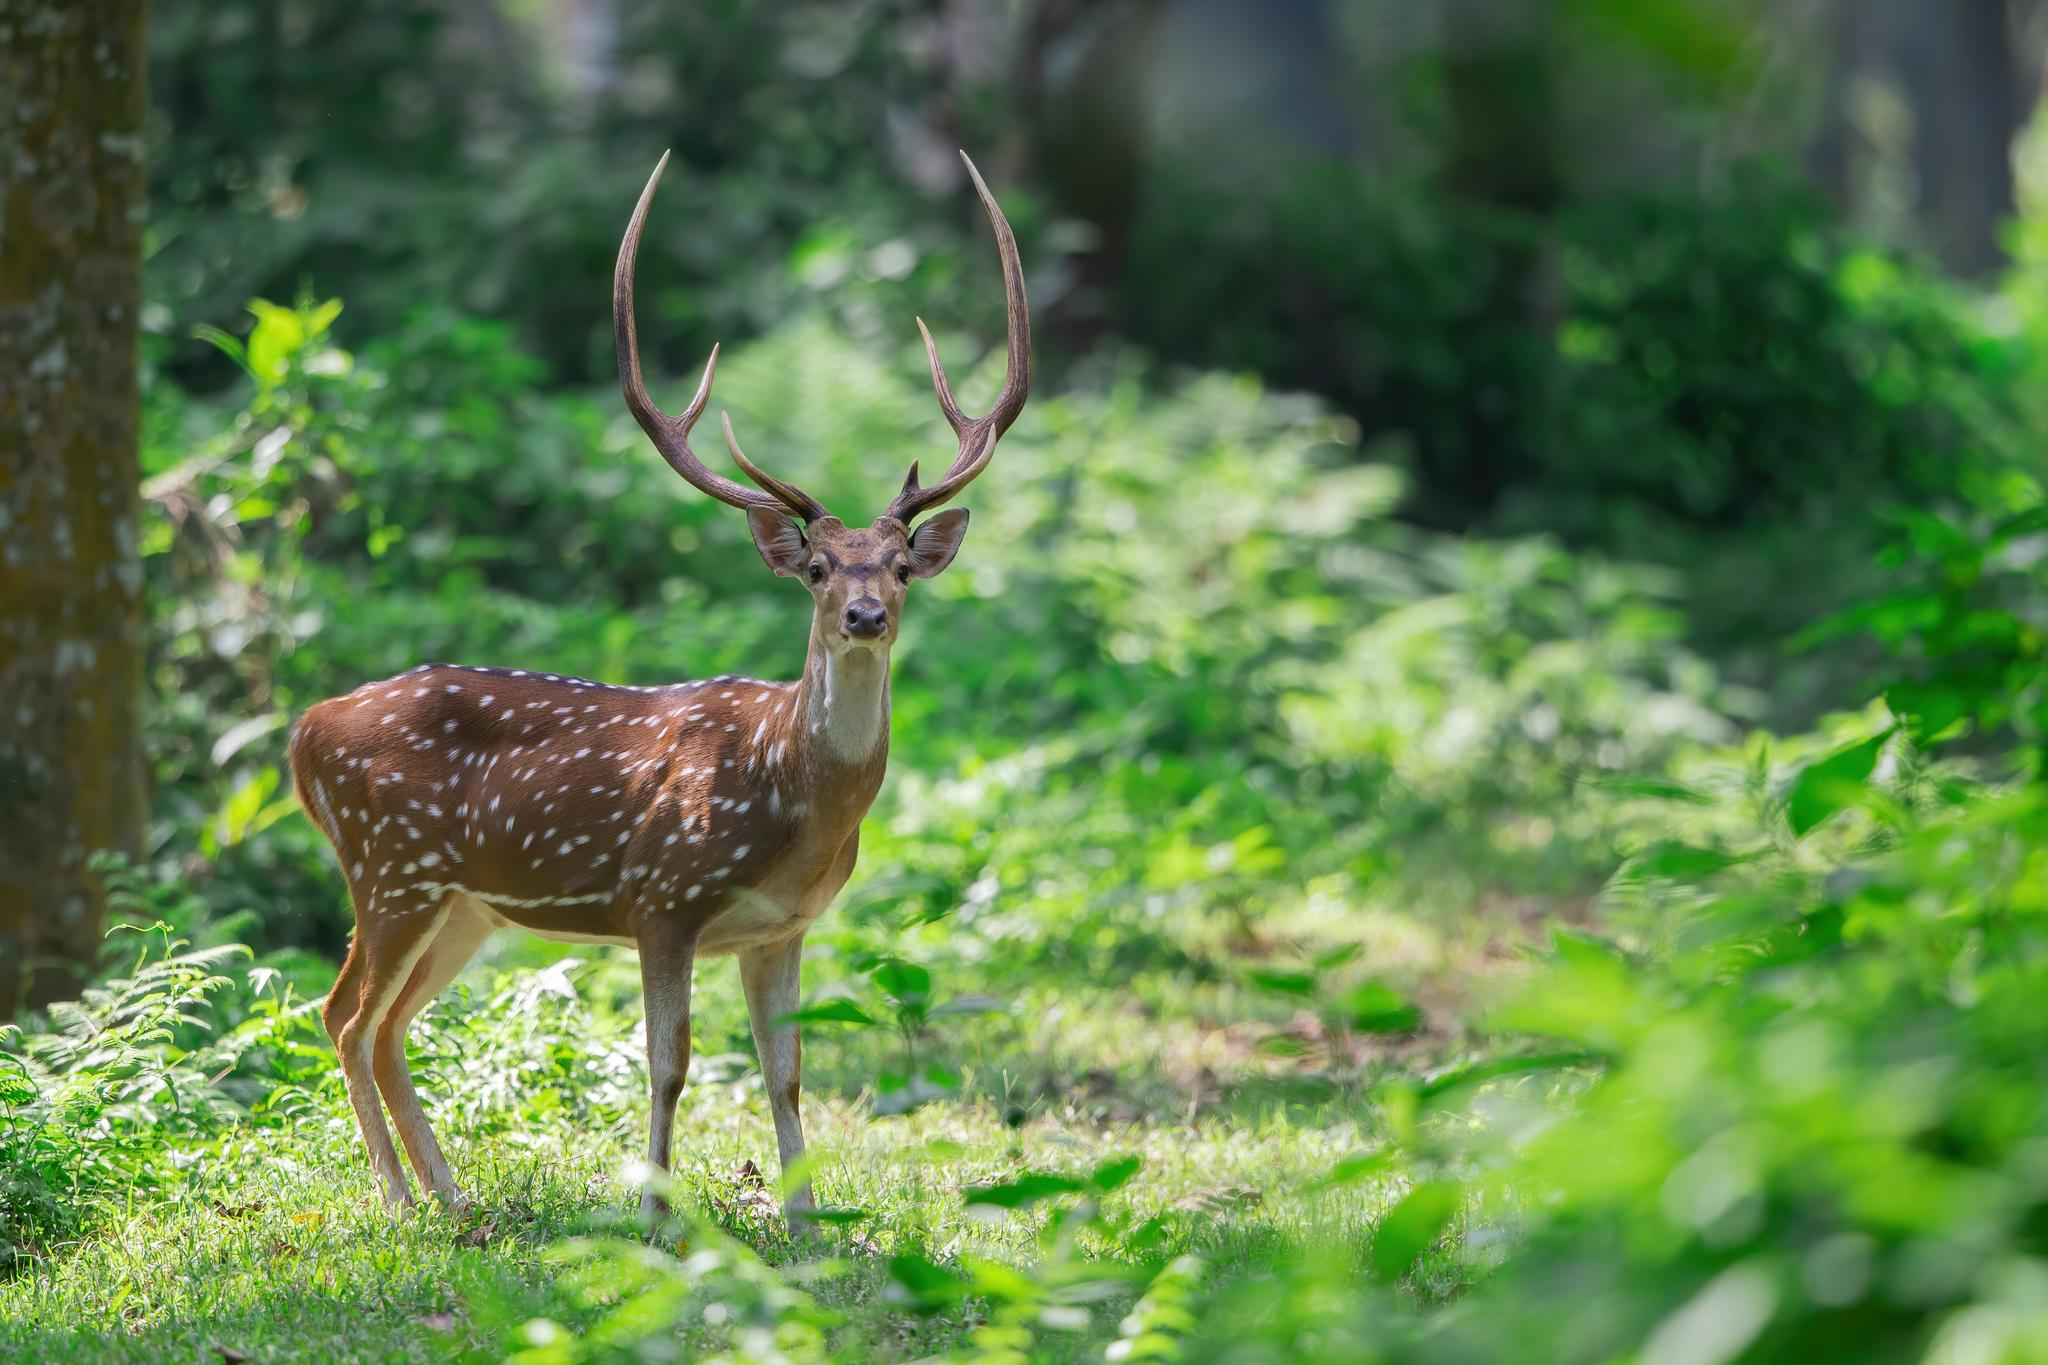Deer: (289, 152, 1026, 1202)
